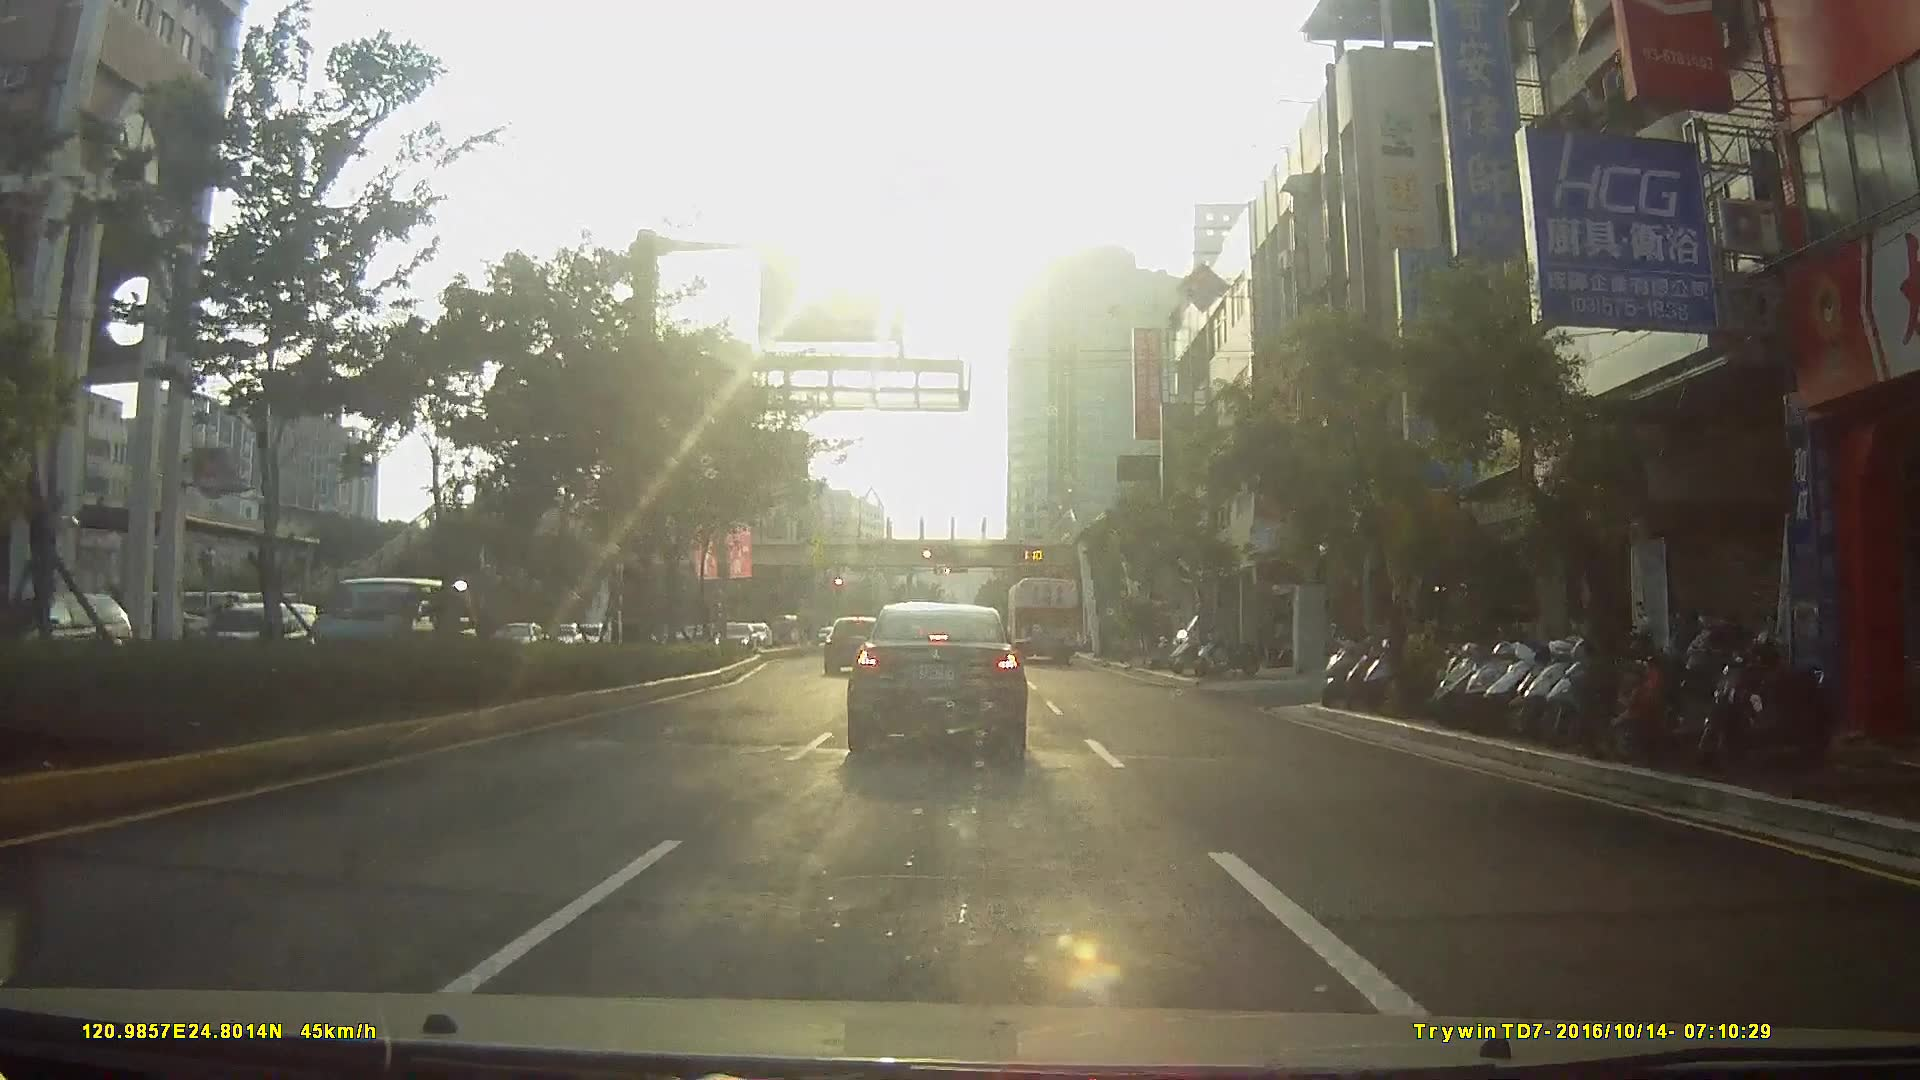vehicle: (844, 596, 1027, 760), (301, 578, 475, 690), (7, 587, 127, 667), (1005, 572, 1081, 663), (820, 613, 885, 676), (709, 621, 756, 658)
